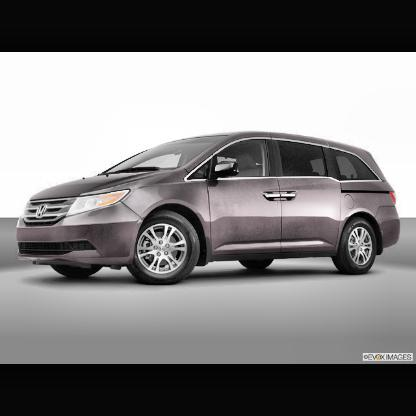Honda Odyssey Minivan 2012: (17, 135, 403, 280)
